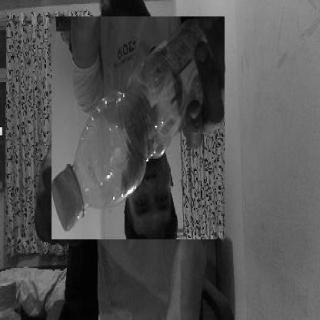plastic_bottles: (52, 16, 225, 239)
